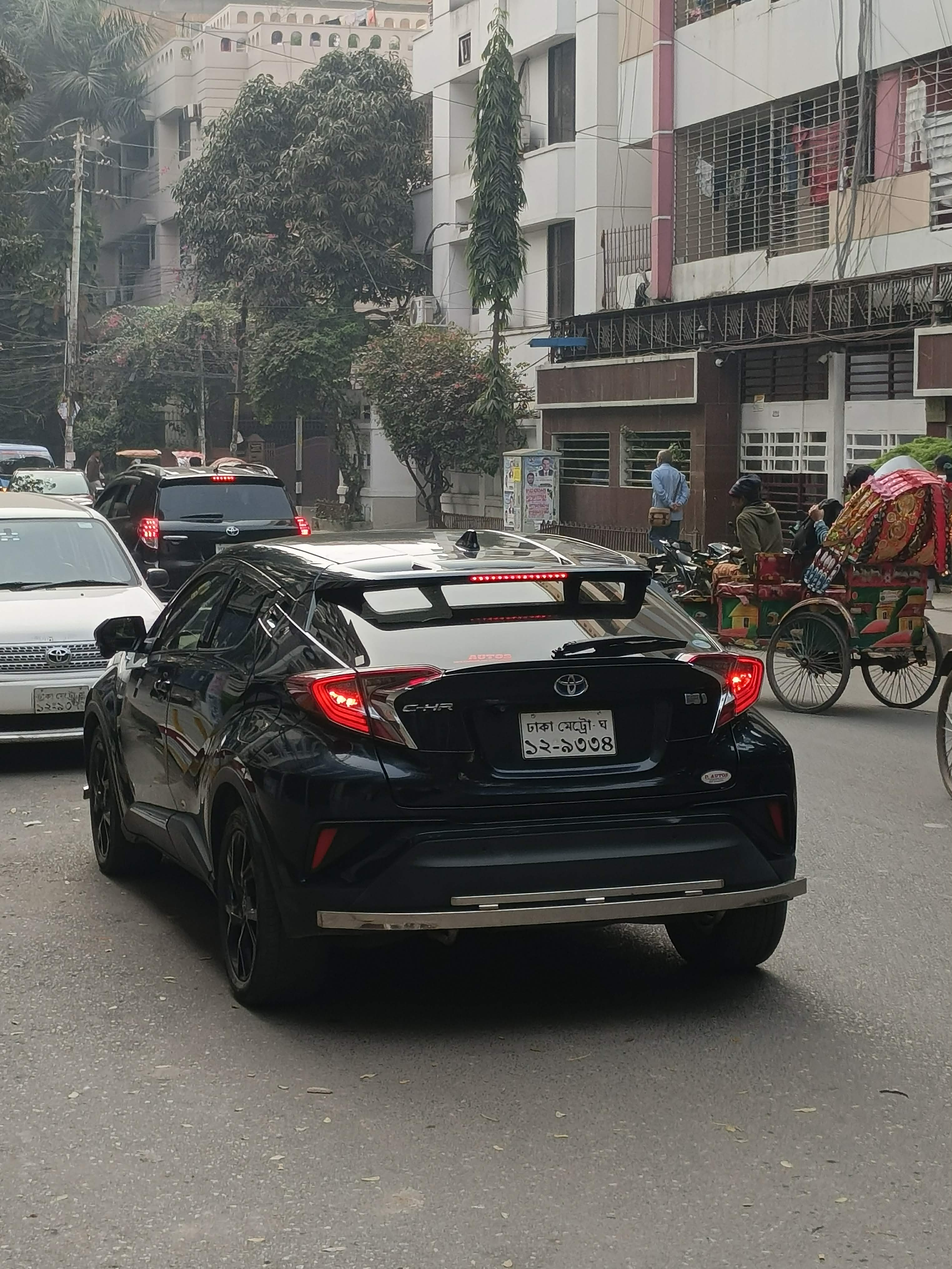auto-ricksaw: (687, 441, 943, 720)
private car: (69, 513, 814, 1001), (3, 482, 154, 789), (84, 441, 325, 557)
